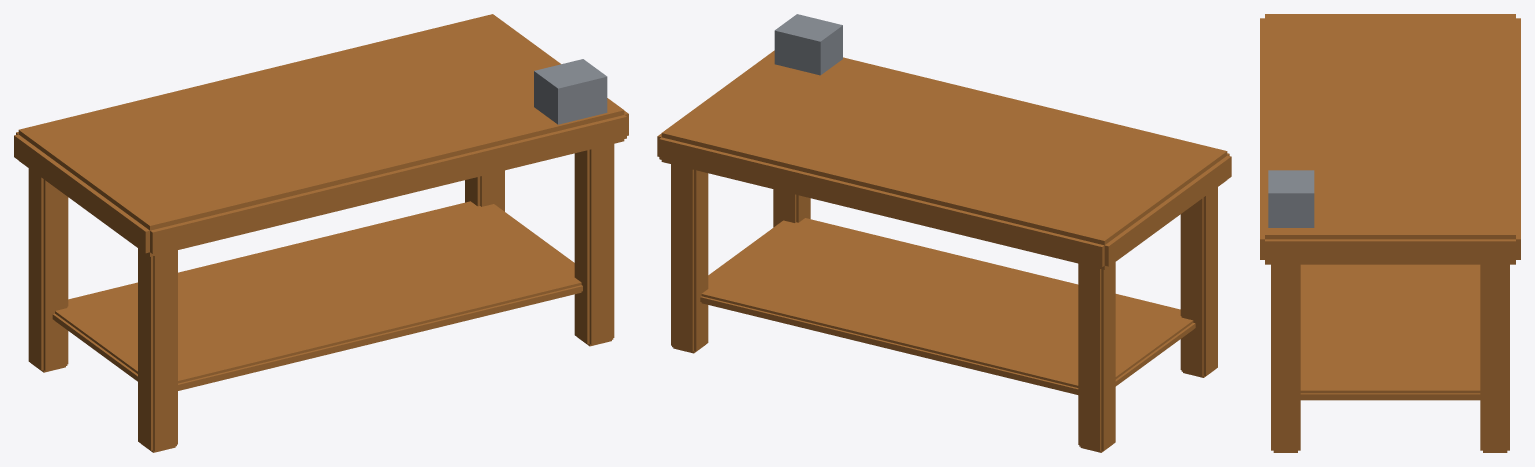
Rendered from lihzahrd_workbench_v0.glb.
The picture shows the model from 3 angles, left to right: view 1: azimuth 30°, elevation 25°; view 2: azimuth 150°, elevation 25°; view 3: azimuth 270°, elevation 25°; orthographic projection. The views are drawn at different scales.
Parts seen in each view (by area): view 1: lihzahrd_workbench_v0; view 2: lihzahrd_workbench_v0; view 3: lihzahrd_workbench_v0.
Part boxes in pixels (bbox=[...]): lihzahrd_workbench_v0: bbox=[14, 14, 628, 452]; lihzahrd_workbench_v0: bbox=[657, 14, 1231, 452]; lihzahrd_workbench_v0: bbox=[1260, 14, 1520, 452].
Bounding box in the file's own units: 1.96 × 1.04 × 0.96.
